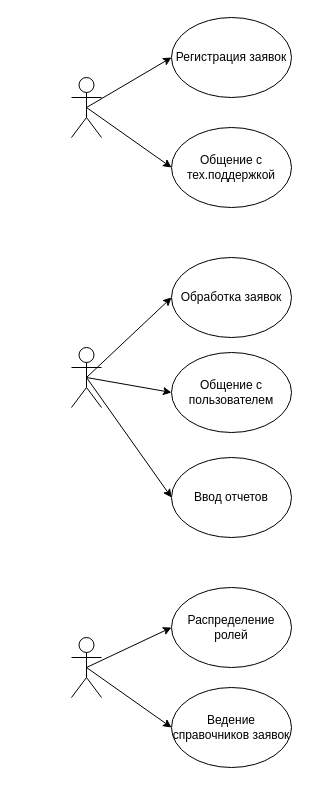
The diagram is 309 pixels wide and 785 high, and some of its shapes have lost their labels. The centre of each missing label's shape, as x and y in pixels:
"Администратор системы" belongs at pixel 86 667.
"Оператор техподдержки" belongs at pixel 86 377.
"Пользователь" belongs at pixel 86 107.
